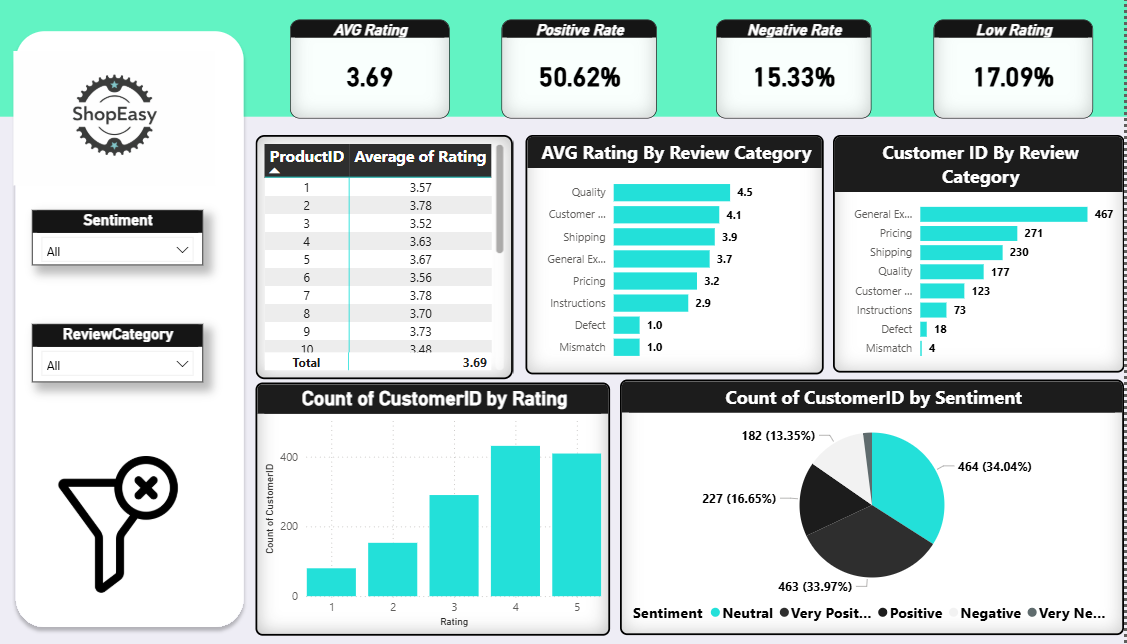

The dashboard page shown, as its layout file describes it:
{"tool":"powerbi","page":{"name":"Customer Review","canvas":[1280,720],"ordinal":1},"visuals":[{"type":"clusteredColumnChart","fields":{"Y":["CountNonNull(NewCustomerReviews.CustomerID)"],"Category":["NewCustomerReviews.Rating"]},"box":[314.3,424.3,394.3,281.4],"z":0},{"type":"pivotTable","fields":{"Rows":["NewCustomerReviews.ProductID"],"Values":["Avg(NewCustomerReviews.Rating)"]},"box":[314.3,150,285.7,271.4],"z":1000},{"type":"pieChart","title":"Count of CustomerID by Sentiment","fields":{"Category":["NewCustomerReviews.Sentiment"],"Y":["CountNonNull(NewCustomerReviews.CustomerID)"]},"box":[720,421.4,560,284.3],"z":2000},{"type":"clusteredBarChart","title":" AVG Rating By Review Category ","fields":{"Y":["MeasuresTable.Average Rating"],"Category":["NewCustomerReviews.ReviewCategory"]},"box":[614.3,150,331.4,265.7],"z":3000},{"type":"clusteredBarChart","title":"Customer ID By Review Category ","fields":{"Category":["NewCustomerReviews.ReviewCategory"],"Y":["CountNonNull(NewCustomerReviews.CustomerID)"]},"box":[957.1,150,324.3,264.3],"z":4000},{"type":"card","title":"Positive Rate","fields":{"Values":["MeasuresTable.Positive Rate %"]},"box":[588.6,21.4,172.9,110],"z":5000},{"type":"card","title":"Low Rating","fields":{"Values":["MeasuresTable.Low Rating %"]},"box":[1068.6,21.4,177.1,110],"z":6000},{"type":"slicer","title":"Sentiment","fields":{"Values":["NewCustomerReviews.Sentiment"]},"box":[67.1,233.1,190.2,61.6],"z":7000},{"type":"slicer","title":"ReviewCategory","fields":{"Values":["NewCustomerReviews.ReviewCategory"]},"box":[67.1,359.6,190.2,64.9],"z":8000},{"type":"image","box":[44,56.1,229.8,149.6],"z":9000},{"type":"image","box":[67.1,506.9,191.3,151.8],"z":10000},{"type":"card","title":"AVG Rating","fields":{"Values":["MeasuresTable.Average Rating"]},"box":[352.9,21.4,177.1,110],"z":11000},{"type":"card","title":"Negative Rate","fields":{"Values":["MeasuresTable.Negative Rate %"]},"box":[827.1,21.4,172.9,110],"z":12000}]}

Visuals, with their boxes in screenshot pixels (x1, y1, x2, y2), scaled from the page's 1280x720 canvas onto the 1127x644 screenshot:
clusteredColumnChart - CountNonNull(NewCustomerReviews.CustomerID) x NewCustomerReviews.Rating: bbox(277, 380, 624, 631)
pivotTable - NewCustomerReviews.ProductID x Avg(NewCustomerReviews.Rating): bbox(277, 134, 528, 377)
"Count of CustomerID by Sentiment" pieChart: bbox(634, 377, 1126, 631)
" AVG Rating By Review Category " clusteredBarChart: bbox(541, 134, 833, 372)
"Customer ID By Review Category " clusteredBarChart: bbox(843, 134, 1126, 371)
"Positive Rate" card: bbox(518, 19, 670, 118)
"Low Rating" card: bbox(941, 19, 1097, 118)
"Sentiment" slicer: bbox(59, 208, 227, 264)
"ReviewCategory" slicer: bbox(59, 322, 227, 380)
image: bbox(39, 50, 241, 184)
image: bbox(59, 453, 228, 589)
"AVG Rating" card: bbox(311, 19, 467, 118)
"Negative Rate" card: bbox(728, 19, 880, 118)
